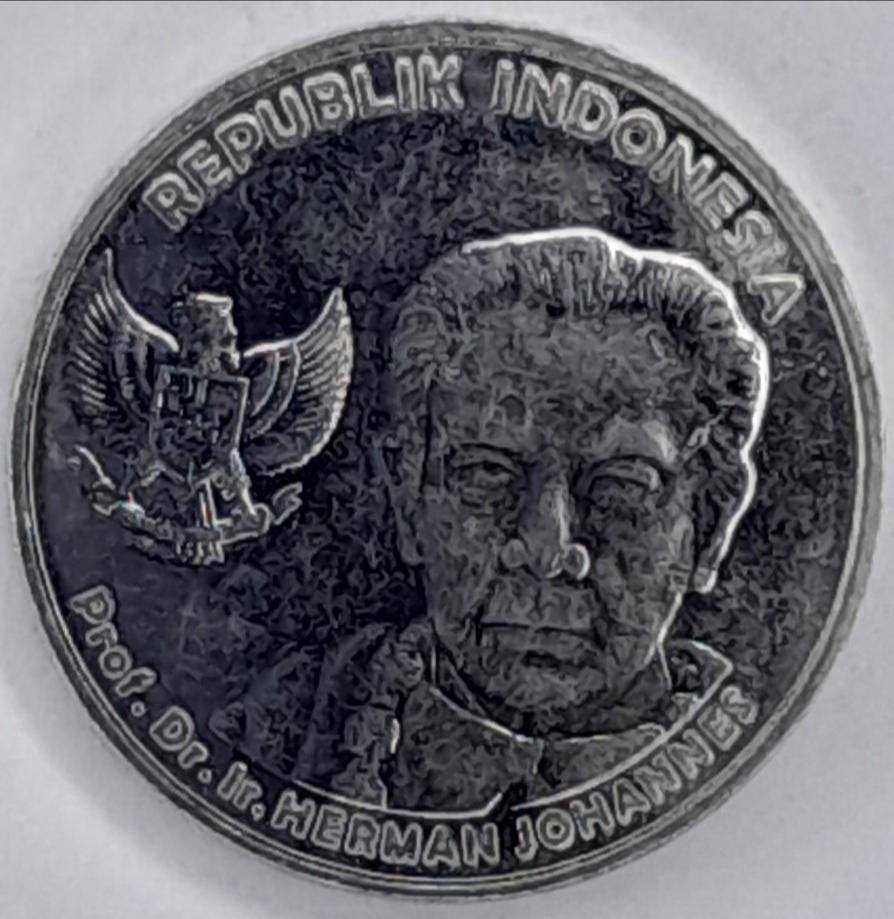coin_100_e2016: (4, 14, 888, 901)
